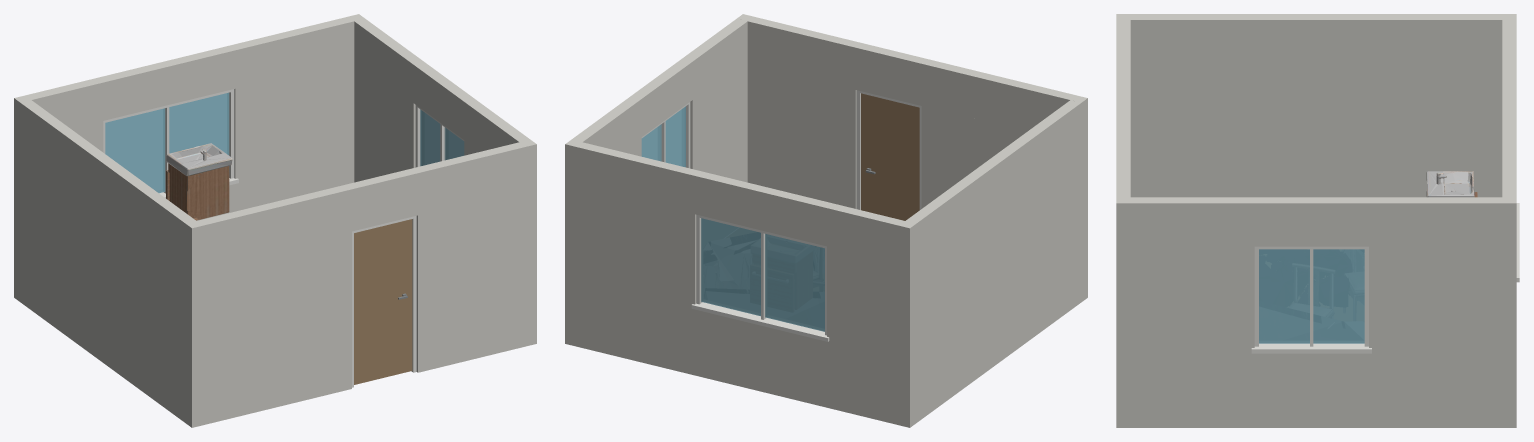
Rendered from layoutvlm.glb.
3 views of the same model, side by side, from view 1: azimuth 30°, elevation 25°; view 2: azimuth 150°, elevation 25°; view 3: azimuth 270°, elevation 25° (orthographic). The views are drawn at different scales.
Visible parts, largest first — view 1: wall|scenesmith_073__R00|0, wall|scenesmith_073__R00|2, wall|scenesmith_073__R00|1, wall|scenesmith_073__R00|3, wall|scenesmith_073__R00|0 Door 0 | wood leaf, wall|scenesmith_073__R00|1 Window 0 | glazing, scenesmith_073__R00_sink-0, wall|scenesmith_073__R00|3 Window 0 | glazing, wall|scenesmith_073__R00|1 Window 0 | jamb, wall|scenesmith_073__R00|0 Door 0 | jamb, wall|scenesmith_073__R00|3 Window 0 | jamb; view 2: wall|scenesmith_073__R00|1, wall|scenesmith_073__R00|2, wall|scenesmith_073__R00|0, wall|scenesmith_073__R00|3, wall|scenesmith_073__R00|1 Window 0 | glazing, wall|scenesmith_073__R00|0 Door 0 | wood leaf, wall|scenesmith_073__R00|1 Window 0 | jamb, wall|scenesmith_073__R00|3 Window 0 | glazing, wall|scenesmith_073__R00|0 Door 0 | jamb, wall|scenesmith_073__R00|3 Window 0 | jamb; view 3: wall|scenesmith_073__R00|3, wall|scenesmith_073__R00|2, wall|scenesmith_073__R00|3 Window 0 | glazing, wall|scenesmith_073__R00|3 Window 0 | jamb, wall|scenesmith_073__R00|0, wall|scenesmith_073__R00|1, scenesmith_073__R00_sink-0.
Boxes of the visible parts, bbox=[...] form: wall|scenesmith_073__R00|0: bbox=[186, 139, 536, 425]; wall|scenesmith_073__R00|2: bbox=[14, 95, 202, 427]; wall|scenesmith_073__R00|1: bbox=[14, 14, 364, 301]; wall|scenesmith_073__R00|3: bbox=[354, 18, 536, 346]; wall|scenesmith_073__R00|0 Door 0 | wood leaf: bbox=[354, 219, 412, 384]; wall|scenesmith_073__R00|1 Window 0 | glazing: bbox=[105, 92, 229, 193]; scenesmith_073__R00_sink-0: bbox=[166, 143, 232, 220]; wall|scenesmith_073__R00|3 Window 0 | glazing: bbox=[420, 109, 464, 166]; wall|scenesmith_073__R00|1 Window 0 | jamb: bbox=[103, 89, 238, 198]; wall|scenesmith_073__R00|0 Door 0 | jamb: bbox=[352, 216, 416, 387]; wall|scenesmith_073__R00|3 Window 0 | jamb: bbox=[415, 105, 464, 167]; wall|scenesmith_073__R00|1: bbox=[565, 139, 916, 427]; wall|scenesmith_073__R00|2: bbox=[899, 98, 1087, 427]; wall|scenesmith_073__R00|0: bbox=[737, 14, 1087, 208]; wall|scenesmith_073__R00|3: bbox=[565, 18, 747, 346]; wall|scenesmith_073__R00|1 Window 0 | glazing: bbox=[701, 218, 824, 331]; wall|scenesmith_073__R00|0 Door 0 | wood leaf: bbox=[861, 93, 919, 220]; wall|scenesmith_073__R00|1 Window 0 | jamb: bbox=[691, 214, 829, 341]; wall|scenesmith_073__R00|3 Window 0 | glazing: bbox=[641, 106, 685, 167]; wall|scenesmith_073__R00|0 Door 0 | jamb: bbox=[856, 90, 921, 209]; wall|scenesmith_073__R00|3 Window 0 | jamb: bbox=[641, 102, 690, 168]; wall|scenesmith_073__R00|3: bbox=[1116, 197, 1516, 427]; wall|scenesmith_073__R00|2: bbox=[1130, 14, 1516, 197]; wall|scenesmith_073__R00|3 Window 0 | glazing: bbox=[1259, 249, 1364, 343]; wall|scenesmith_073__R00|3 Window 0 | jamb: bbox=[1251, 246, 1371, 353]; wall|scenesmith_073__R00|0: bbox=[1116, 14, 1130, 203]; wall|scenesmith_073__R00|1: bbox=[1502, 20, 1516, 203]; scenesmith_073__R00_sink-0: bbox=[1426, 171, 1477, 197].
Bounding box in the file's own units: 4.73 × 2.61 × 4.23.
10 materials, 3 textured.
